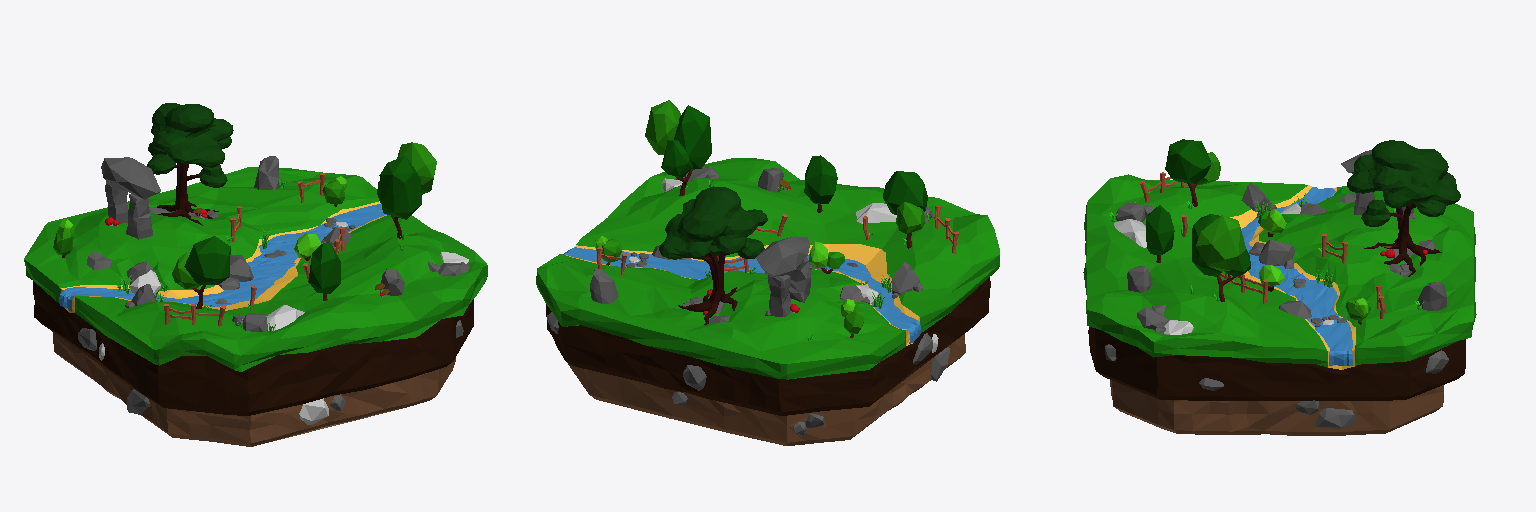
The model's file is river.obj.
3 views of the same model, side by side, from view 1: azimuth 30°, elevation 25°; view 2: azimuth 150°, elevation 25°; view 3: azimuth 270°, elevation 25° (orthographic).
Visible parts, largest first — view 1: Plane.001, Cube.002_Cube, Cube.003, Mball.016_Mesh, Plane.003, Cube_Cube.001, Cube.030, Cube.035, Icosphere.019, Icosphere.012_Icosphere.015, Cube.041, Cube.004 (+1 smaller); view 2: Plane.001, Cube.002_Cube, Cube.003, Mball.016_Mesh, Cube.030, Plane.003, Cube_Cube.001, Cube.035, Icosphere.019, Icosphere.012_Icosphere.015, Cube.031, Cube.041 (+2 smaller); view 3: Plane.001, Cube.002_Cube, Cube.003, Mball.016_Mesh, Plane.003, Cube.030, Cube.035, Icosphere.019, Cube.008_Cube.009, Icosphere.000_Icosphere.001, Icosphere.012_Icosphere.015, Icosphere.008_Icosphere.011 (+2 smaller).
Boxes of the visible parts, <box> form: Plane.001: <box>24,167,487,371</box>; Cube.002_Cube: <box>33,281,473,415</box>; Cube.003: <box>53,332,455,446</box>; Mball.016_Mesh: <box>147,103,233,225</box>; Plane.003: <box>59,204,386,311</box>; Cube_Cube.001: <box>101,157,160,239</box>; Cube.030: <box>377,142,436,238</box>; Cube.035: <box>172,236,230,308</box>; Icosphere.019: <box>308,243,340,300</box>; Icosphere.012_Icosphere.015: <box>254,156,279,189</box>; Cube.041: <box>53,219,73,257</box>; Cube.004: <box>299,398,328,424</box>; Plane.001: <box>536,158,999,379</box>; Cube.002_Cube: <box>546,277,990,415</box>; Cube.003: <box>567,334,965,445</box>; Mball.016_Mesh: <box>659,186,767,324</box>; Cube.030: <box>645,100,711,195</box>; Plane.003: <box>563,247,920,343</box>; Cube_Cube.001: <box>756,237,810,316</box>; Cube.035: <box>883,171,927,248</box>; Icosphere.019: <box>804,155,837,212</box>; Icosphere.012_Icosphere.015: <box>590,268,618,303</box>; Cube.031: <box>809,241,844,273</box>; Cube.041: <box>841,299,864,337</box>; Plane.001: <box>1083,174,1476,369</box>; Cube.002_Cube: <box>1088,327,1465,400</box>; Cube.003: <box>1110,380,1443,435</box>; Mball.016_Mesh: <box>1347,140,1460,276</box>; Plane.003: <box>1241,187,1352,365</box>; Cube.030: <box>1192,214,1250,301</box>; Cube.035: <box>1165,139,1220,206</box>; Icosphere.019: <box>1146,205,1174,262</box>; Cube.008_Cube.009: <box>1259,240,1295,265</box>; Icosphere.000_Icosphere.001: <box>1316,408,1356,428</box>; Icosphere.012_Icosphere.015: <box>1417,282,1446,310</box>; Icosphere.008_Icosphere.011: <box>1114,219,1146,247</box>.
Size of the model in its own units: 16.38 by 9.97 by 16.24.